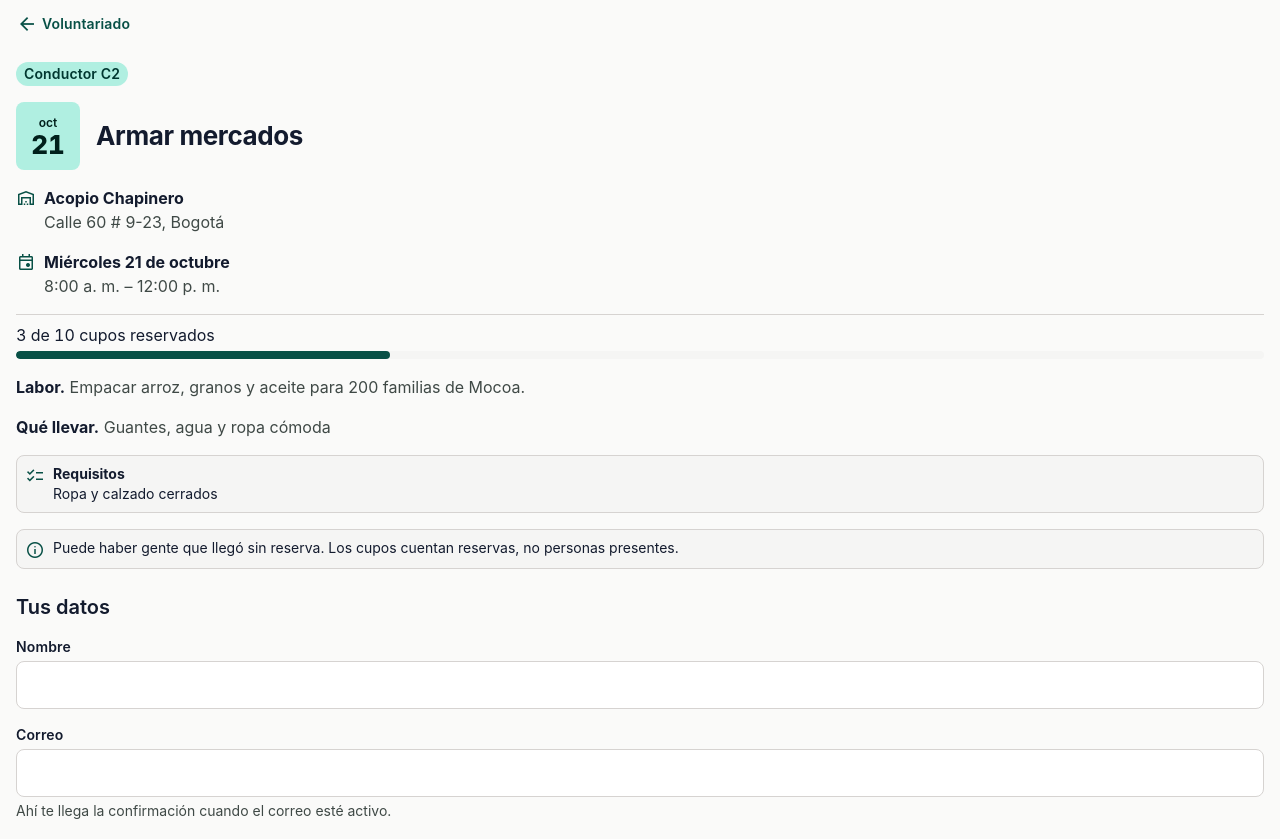
Test case: si la jornada pide un perfil, la casilla del perfil es obligatoria y avisa que lo pueden verificar
In the field labelled "Nombre": (640, 685) [16,661,1264,709], type "Ana Gómez"
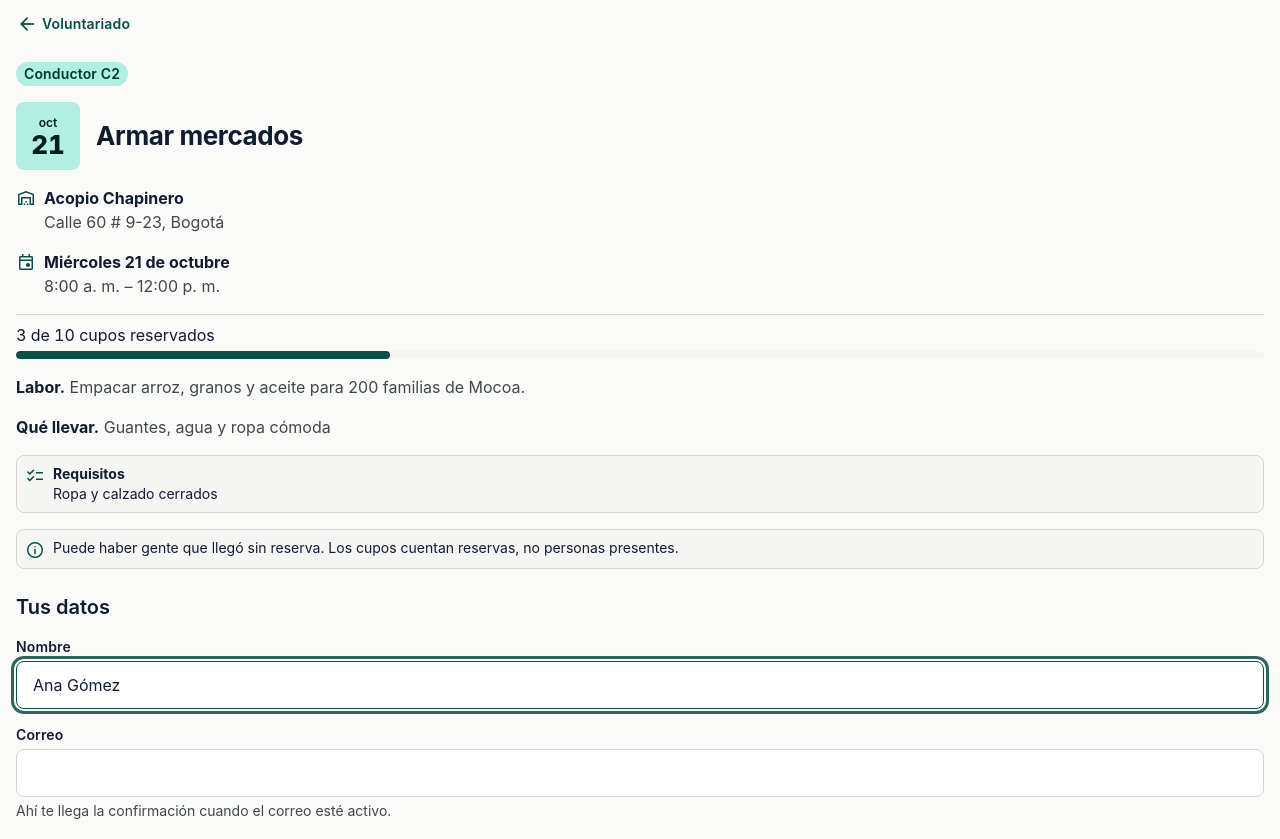
In the field labelled "Correo": (640, 773) [16,749,1264,797], type "ana@correo.co"
(page scrolled)
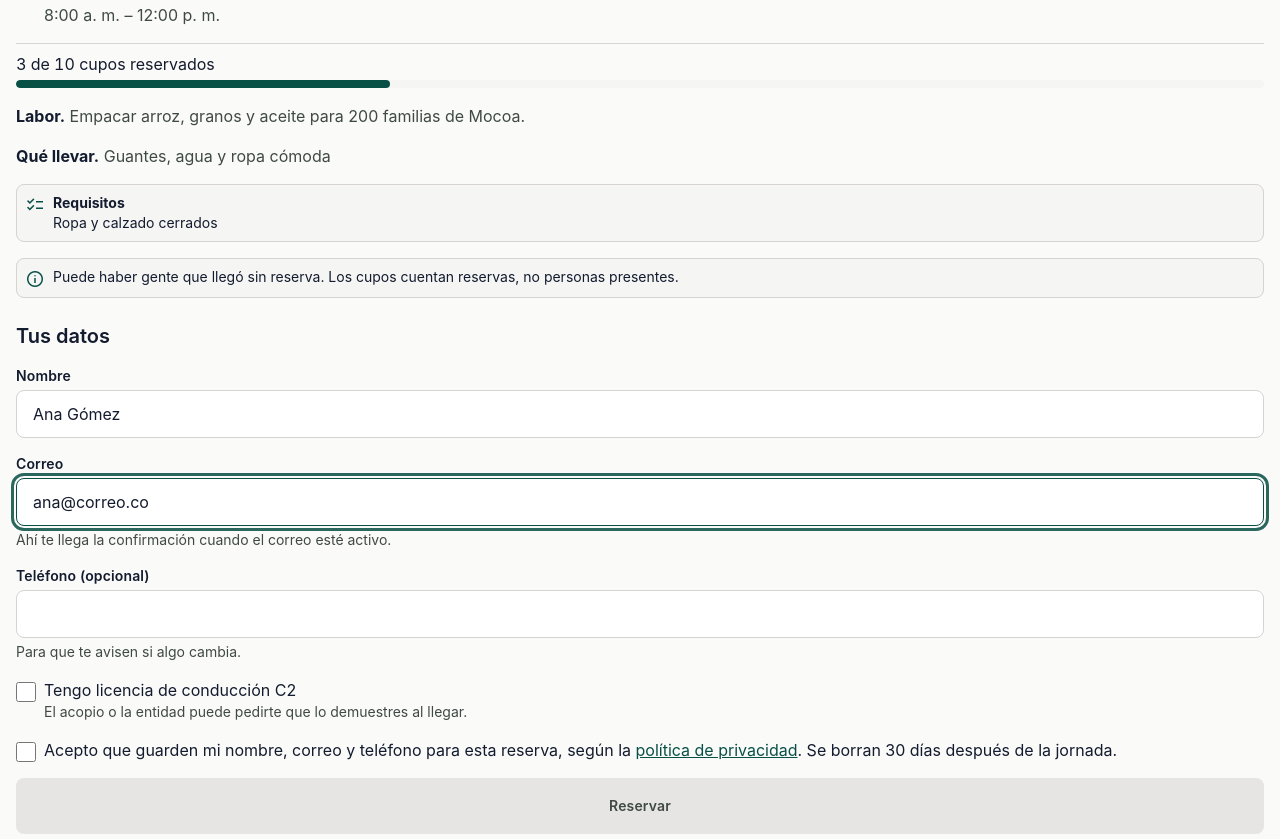
Click the checkbox labelled "Acepto que guarden": (26, 752) [16,742,36,762]
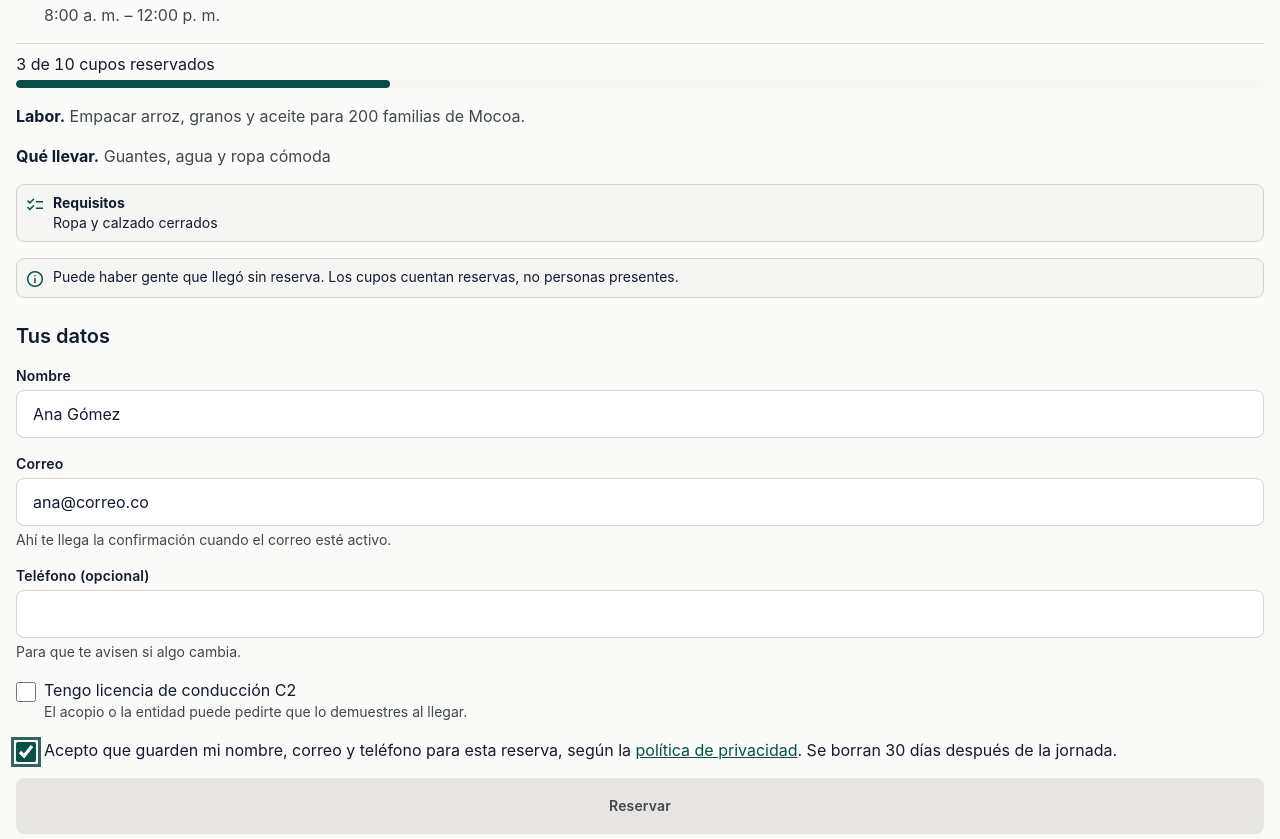
expect the text "El acopio o la entidad puede pedirte que lo demuestres al llegar." is shown: met, box [44,702,467,722]
expect the button "Reservar" is disabled: met, box [16,778,1264,834]
Click the 1st checkbox: (26, 692) [16,682,36,702]
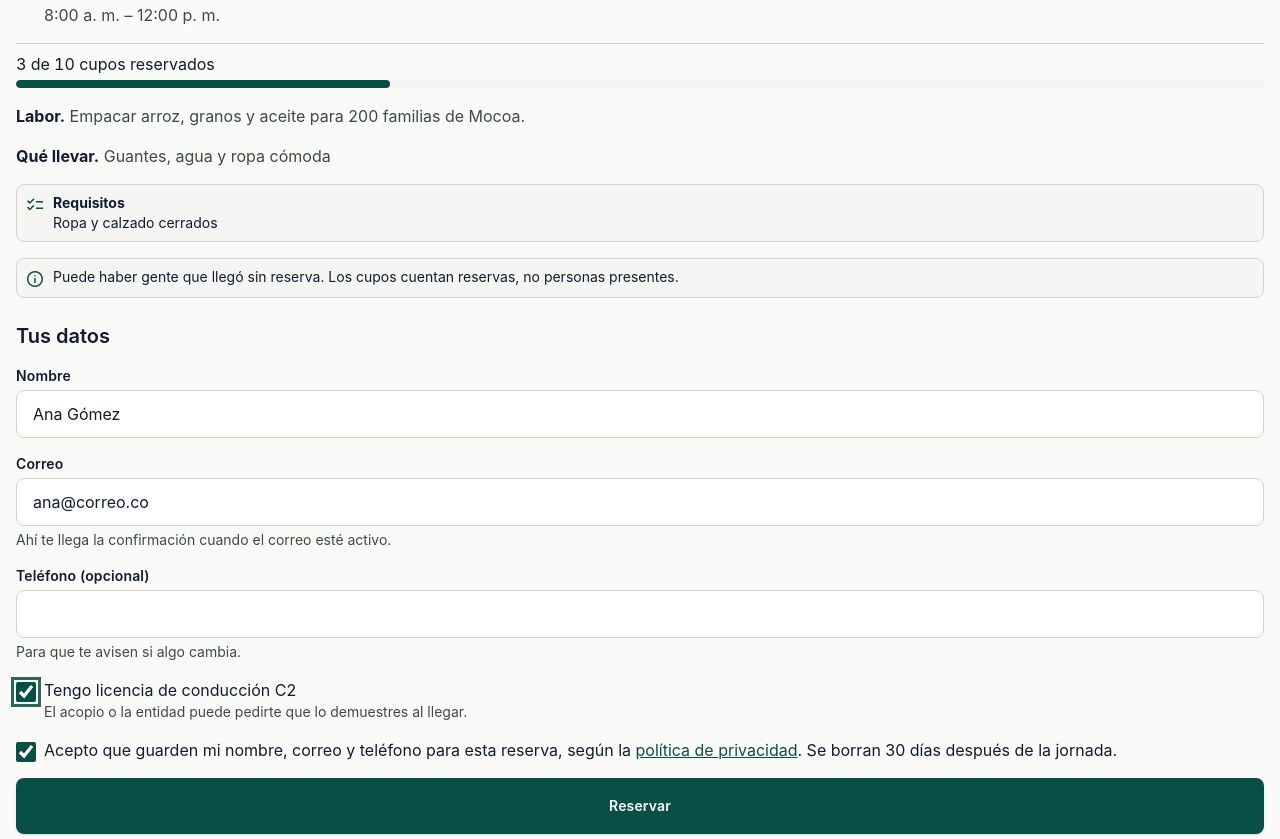
expect the button "Reservar" is enabled: met, box [16,778,1264,834]
